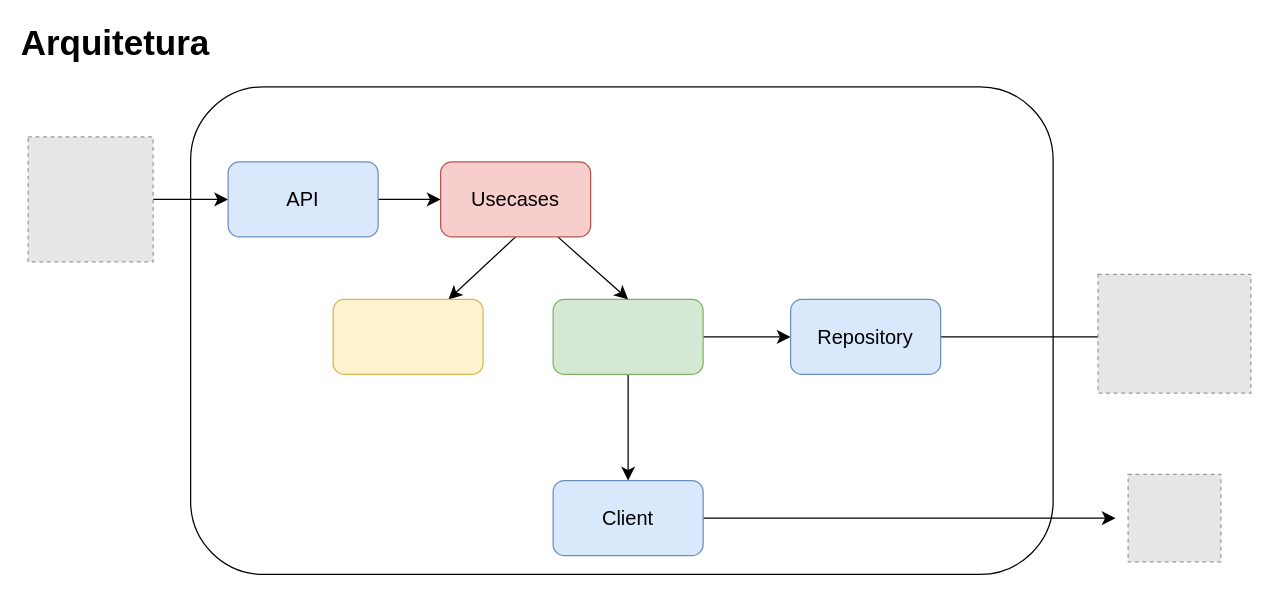
Some shapes in this 1274 by 596 pixel diagram are drawn without their labels. Grey dashed boxes stand in for pictures. Here are the shapes that lost their labels. From the top down, the centre of each, then its label:
At point 407,336: "Domain".
At point 627,336: "Gateway".
